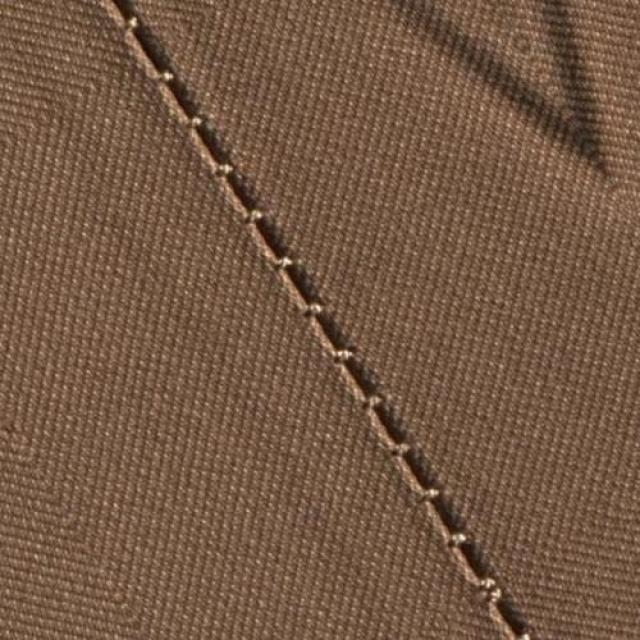gray stitch: (116, 4, 278, 240), (389, 431, 534, 640), (270, 243, 384, 421)
